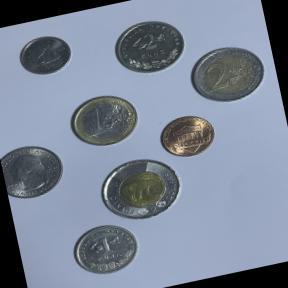coin: (180, 34, 277, 113), (92, 150, 189, 229), (106, 11, 193, 83), (60, 86, 148, 156), (0, 133, 73, 207), (153, 106, 222, 163), (12, 26, 78, 82)
